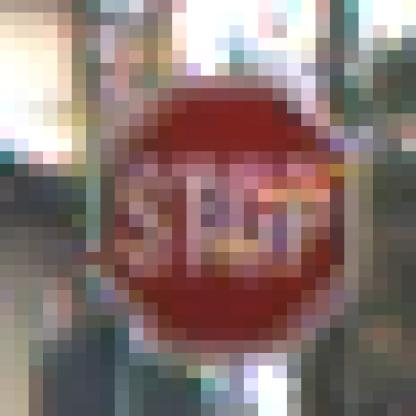Stop: (102, 86, 357, 347)
